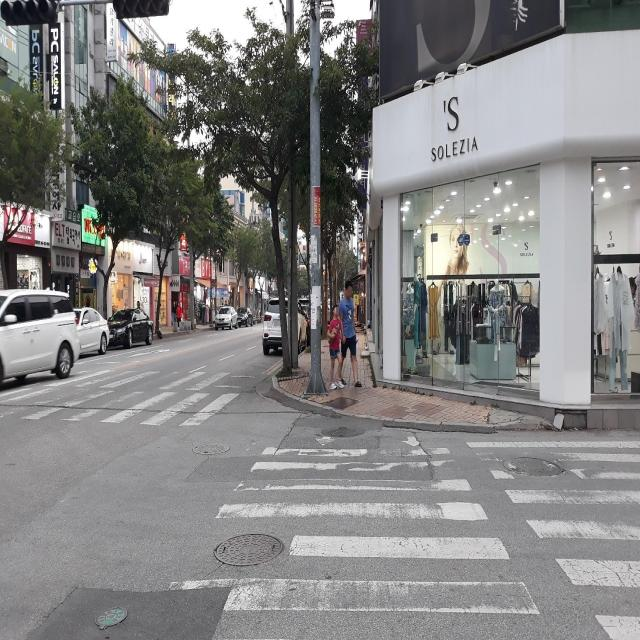횡단보도: (168, 433, 640, 640), (3, 371, 250, 430)
